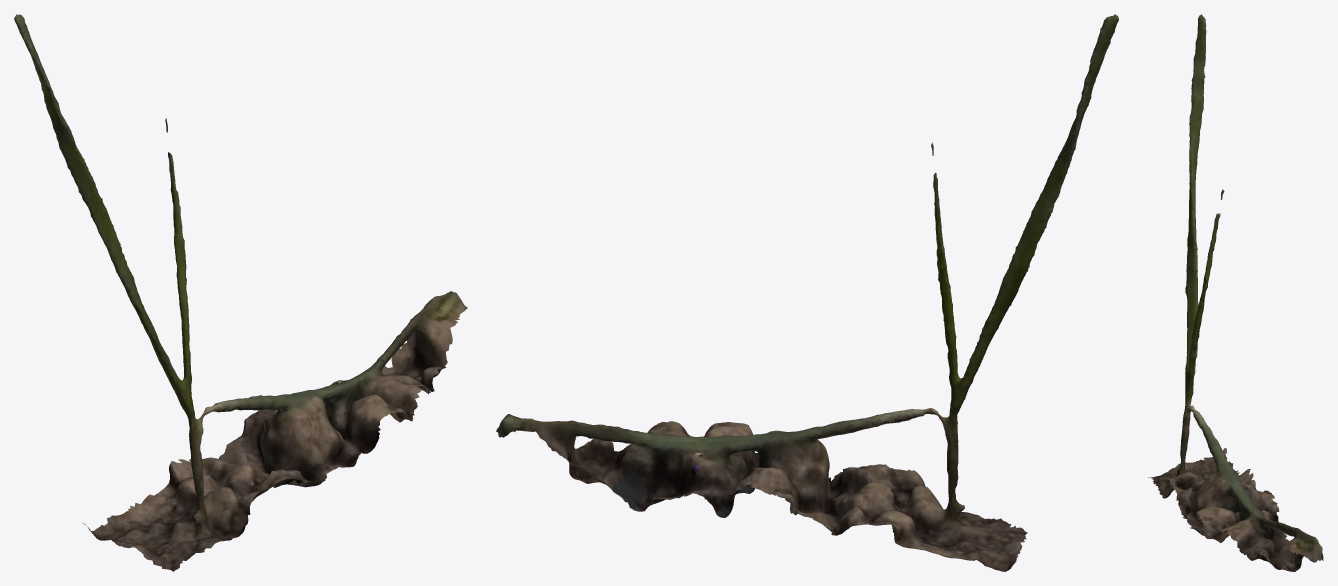
Rendered from Day13.glb.
3 renders of one model, left to right at view 1: azimuth 30°, elevation 25°; view 2: azimuth 150°, elevation 25°; view 3: azimuth 270°, elevation 25°, orthographic. The views are drawn at different scales.
Parts seen in each view (by area): view 1: Day13; view 2: Day13; view 3: Day13.
Boxes of the visible parts, x1,y1,x2,y2 form: Day13: (14, 14, 467, 571); Day13: (496, 14, 1118, 571); Day13: (1148, 14, 1323, 571).
Bounding box in the file's own units: 0.6323 × 0.6418 × 0.2441.
55 materials, 55 textured.
